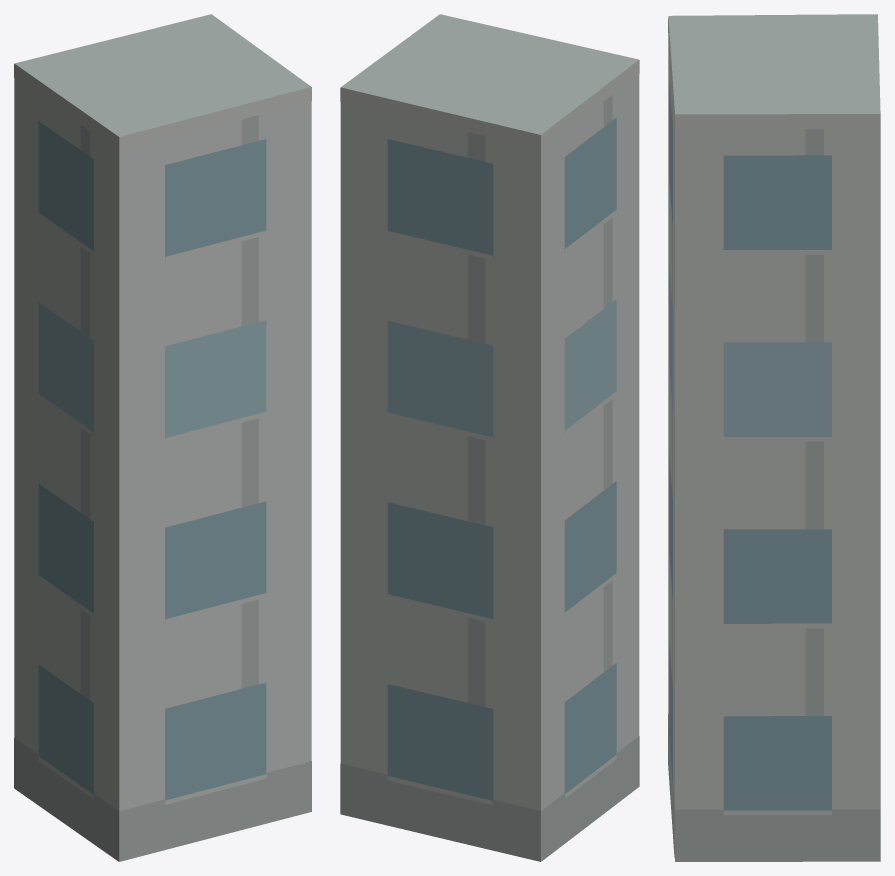
The model's file is survey-upis-32623368.glb.
3 renders of one model, left to right at view 1: azimuth 30°, elevation 25°; view 2: azimuth 150°, elevation 25°; view 3: azimuth 270°, elevation 25°, orthographic. The views are drawn at different scales.
Parts seen in each view (by area): view 1: survey-upis-32623368.tmp; view 2: survey-upis-32623368.tmp; view 3: survey-upis-32623368.tmp.
Boxes of the visible parts, left/top/right/bottom form: survey-upis-32623368.tmp: left=14, top=14, right=311, bottom=861; survey-upis-32623368.tmp: left=340, top=14, right=639, bottom=861; survey-upis-32623368.tmp: left=668, top=14, right=880, bottom=861.
Bounding box in the file's own units: 3.52 × 12.2 × 3.15.
